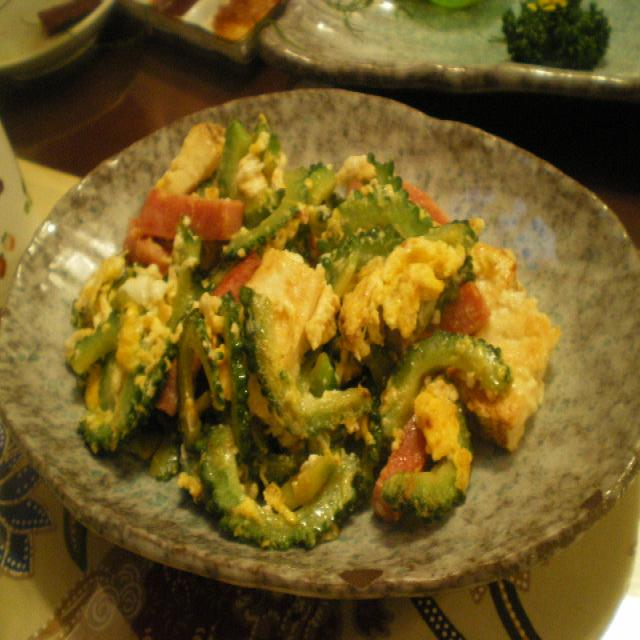熟制海鲜: (0, 69, 640, 603)
